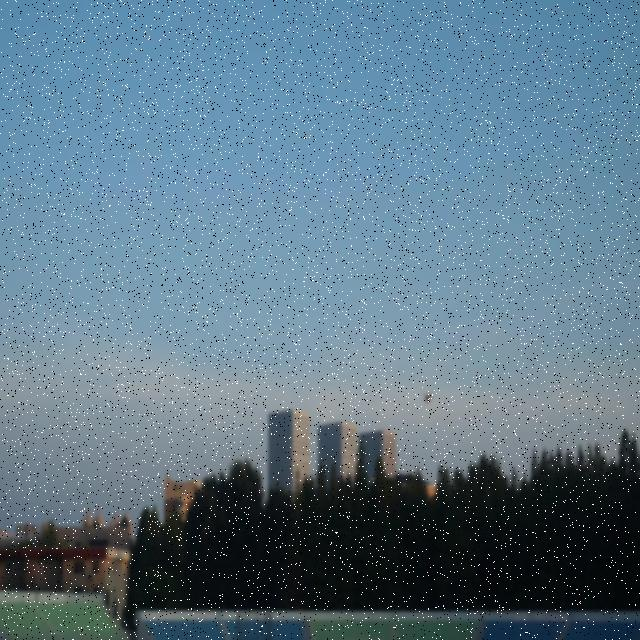UAV: (422, 390, 434, 404)
